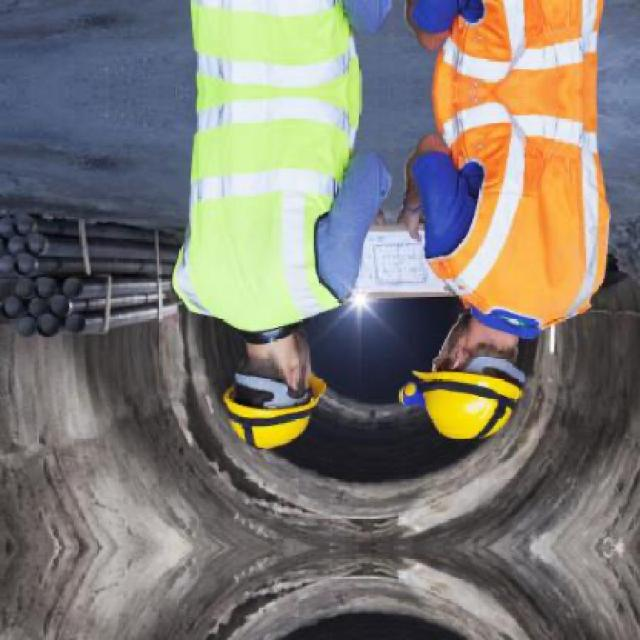con casco: (408, 307, 566, 457), (196, 308, 343, 451)
